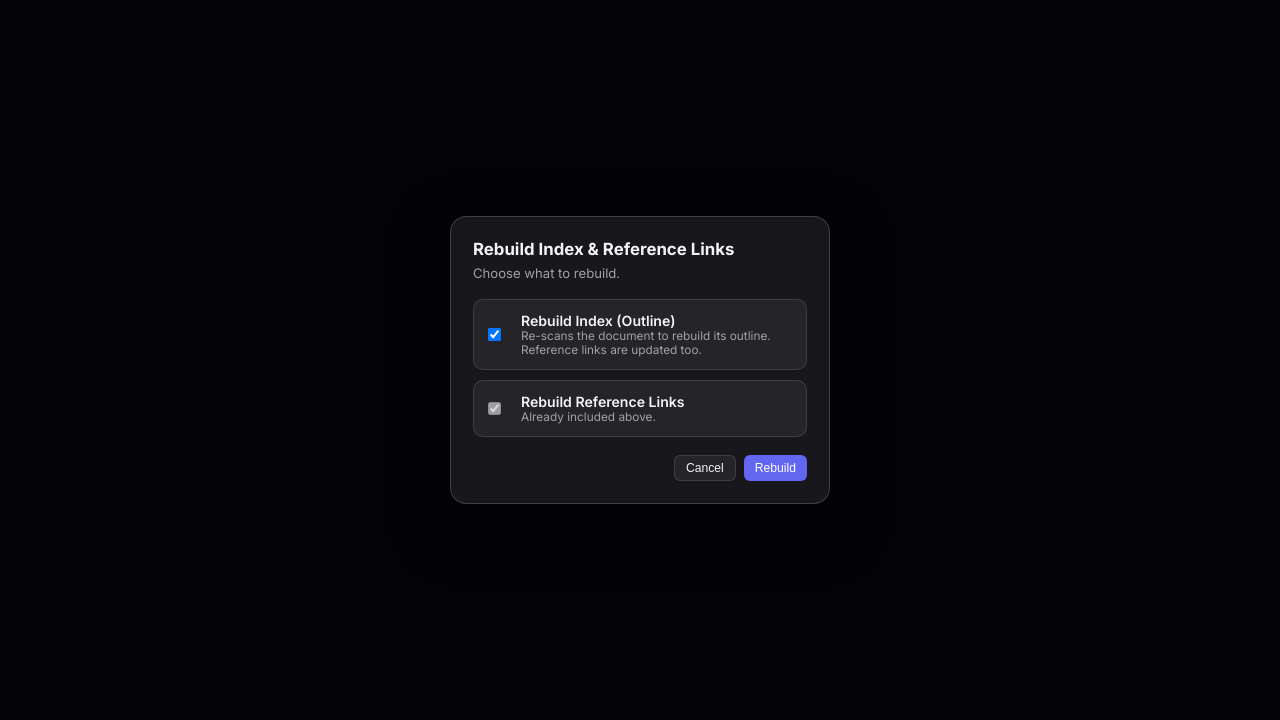
Test: RebuildIndexModal › Rebuild is disabled once both boxes are unchecked
Click the checkbox with test id "rebuild-checkbox-index" at (494, 334), box [488, 328, 501, 341]
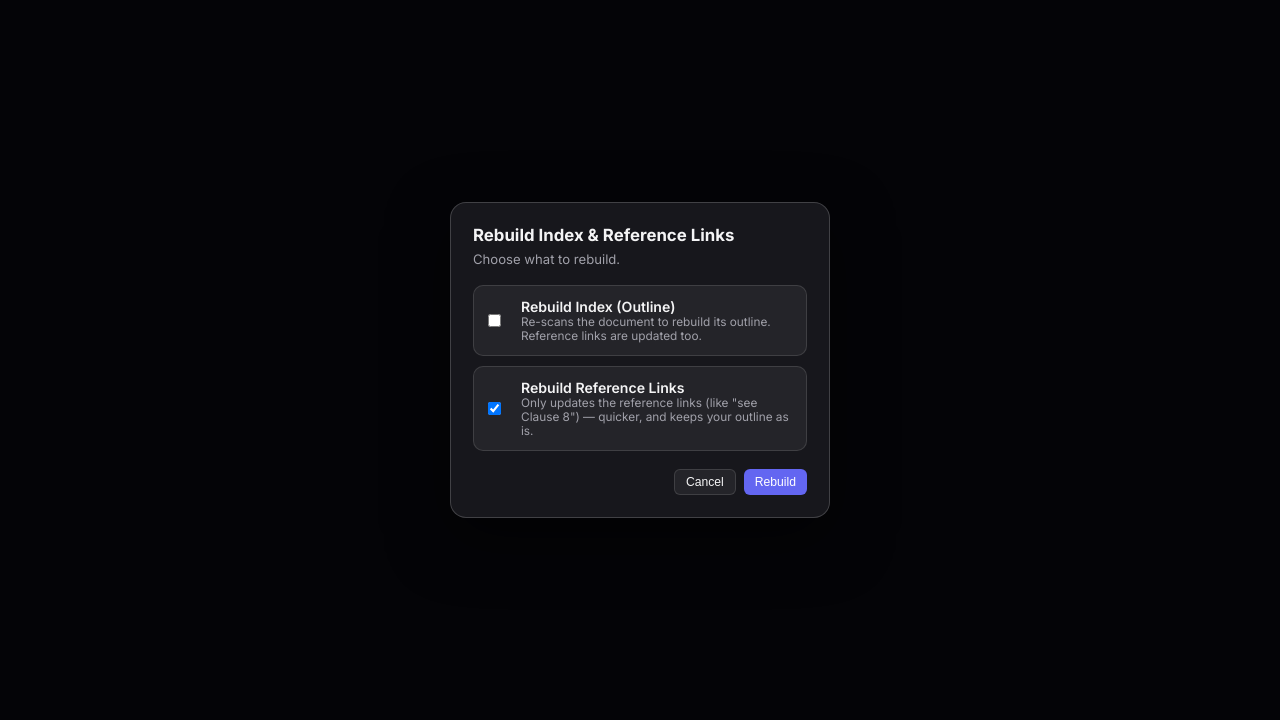
Click the checkbox with test id "rebuild-checkbox-links" at (494, 408), box [488, 402, 501, 415]
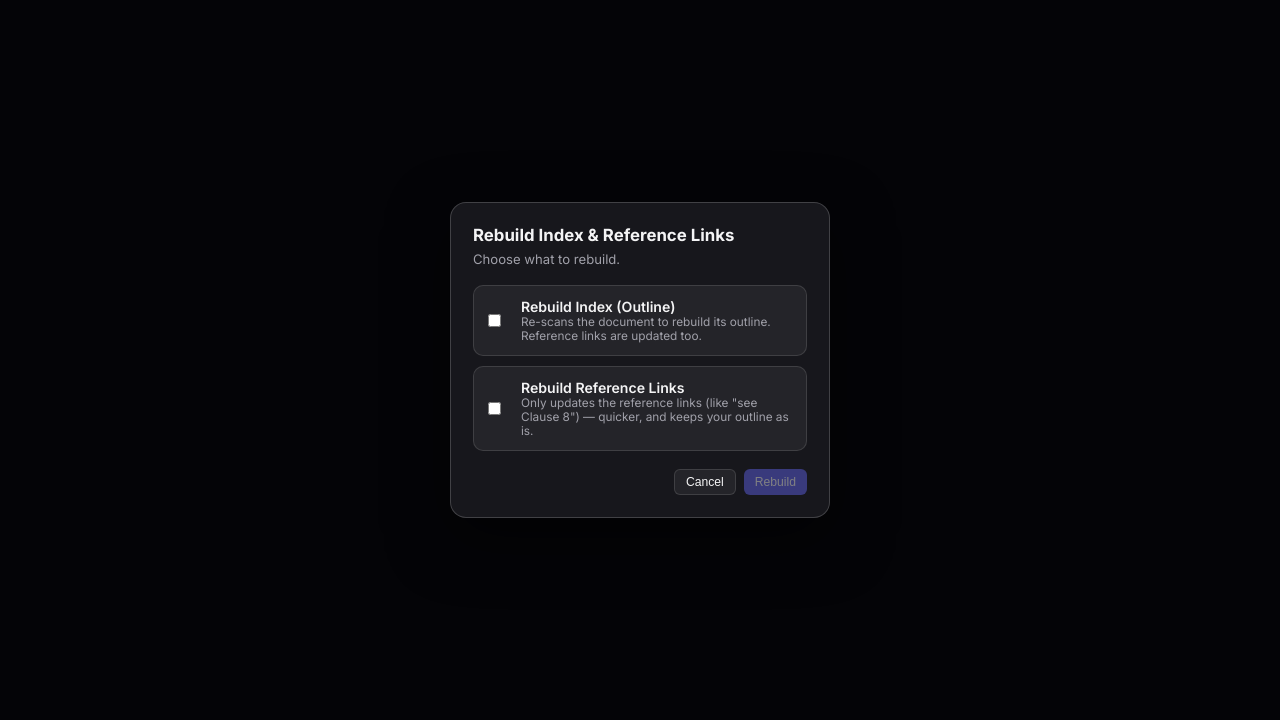
Expected: the button with test id "rebuild-modal-confirm" is disabled, [744, 469, 807, 495]
